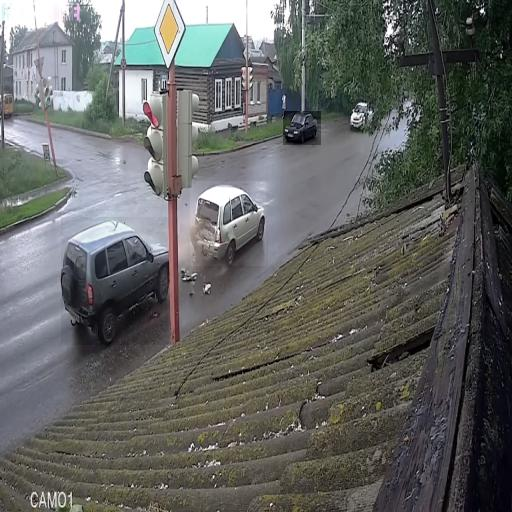小汽车: (61, 218, 169, 346), (190, 181, 266, 266), (284, 112, 322, 146), (348, 99, 376, 134), (0, 86, 18, 122)
